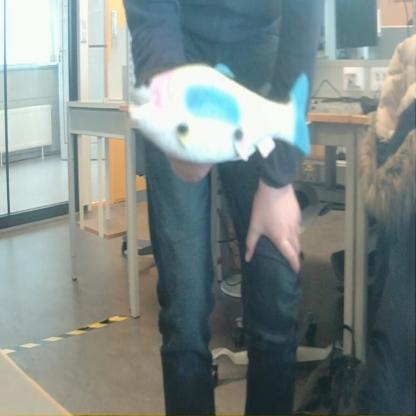rubberfish: (120, 54, 314, 170)
